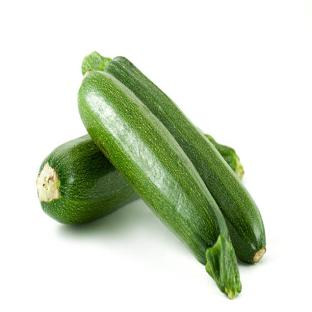Zucchini: (78, 71, 241, 298), (106, 57, 266, 262), (37, 135, 138, 223), (206, 135, 244, 179)
